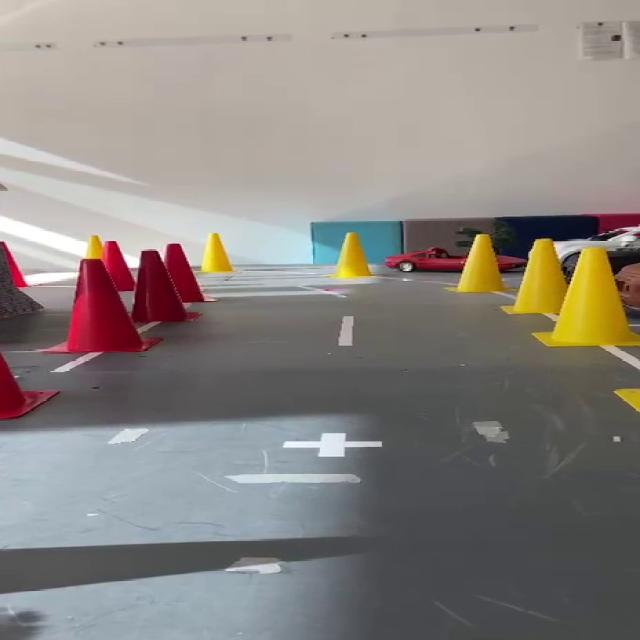Cone-red: (50, 255, 150, 353), (134, 250, 194, 322), (0, 353, 58, 419), (164, 243, 214, 302), (102, 241, 134, 291), (0, 242, 28, 288)
Cones-yellow: (534, 248, 639, 347), (505, 240, 566, 314), (454, 234, 502, 293), (334, 233, 371, 278), (200, 233, 232, 272), (615, 389, 639, 412), (84, 235, 102, 259)
